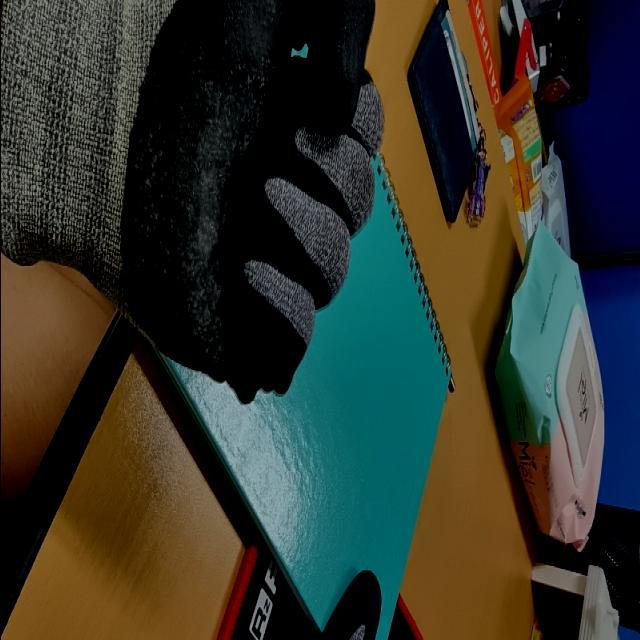Gloves: (0, 0, 395, 400)
